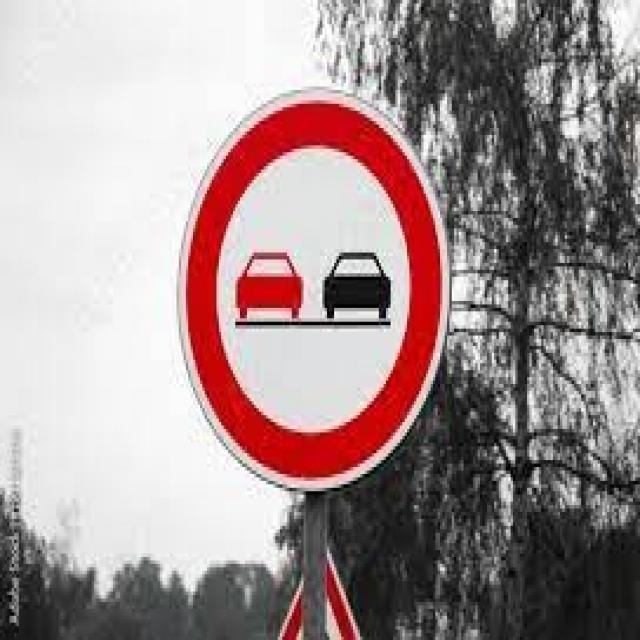no_passing: (170, 81, 454, 509)
